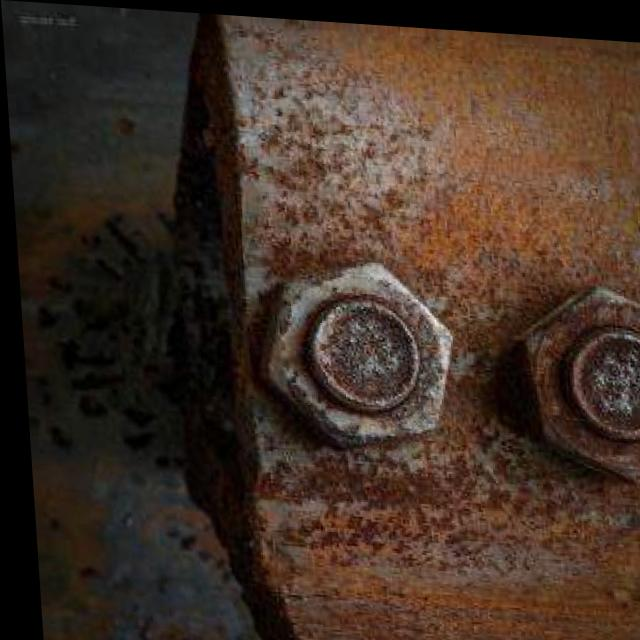Rusty bolt: (258, 251, 452, 447), (515, 272, 640, 481)
